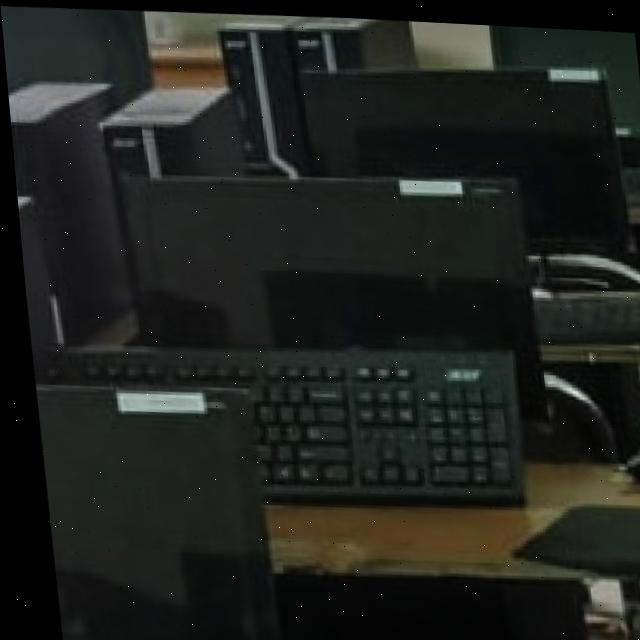offscreen: (117, 173, 526, 355), (29, 384, 266, 640), (298, 65, 621, 245)
